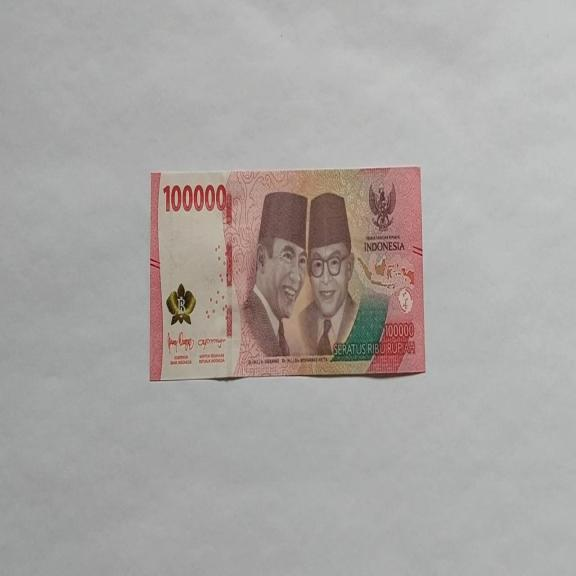Kertas: (149, 164, 426, 382), (162, 181, 228, 214)
